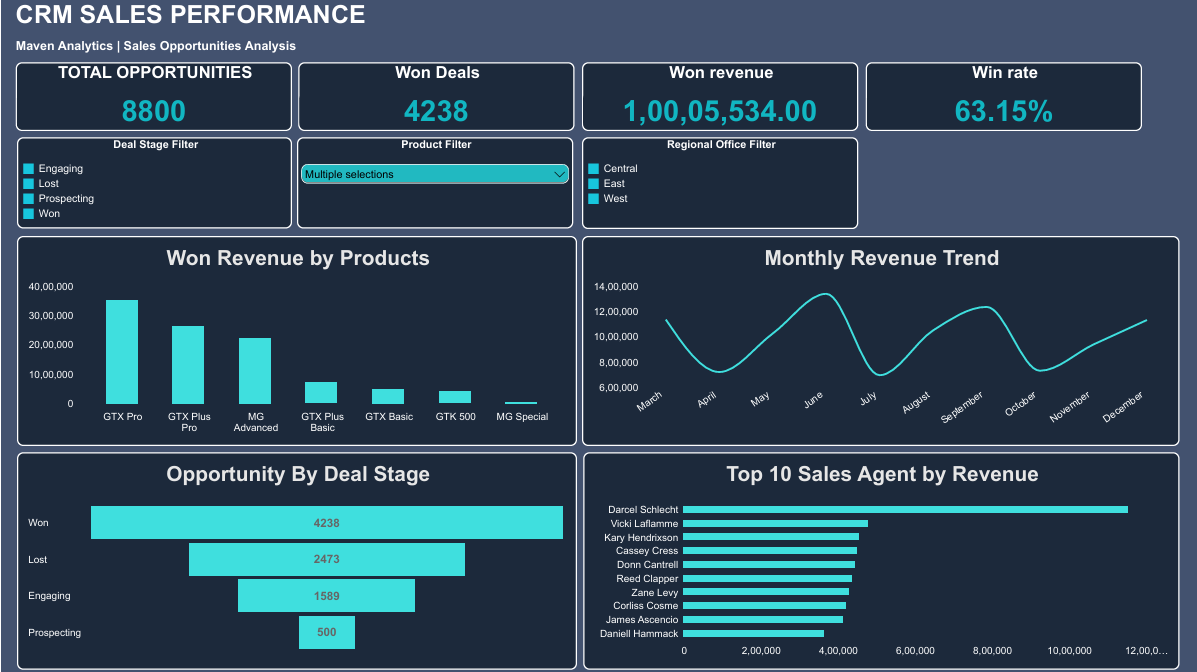

The page's visual inventory and layout, read from the dashboard file:
{"tool":"powerbi","page":{"name":"Page 1","canvas":[1920,1080],"ordinal":0},"visuals":[{"type":"textbox","title":"CRM SALES PERFORMANCE","box":[21.7,0,613.5,59.7],"z":0},{"type":"textbox","box":[21.7,59.7,613.5,38],"z":1000},{"type":"cardVisual","title":"TOTAL OPPORTUNITIES","fields":{"Data":["Count(maven_crm sales_pipeline_clean.opportunity_id)"]},"box":[22,98,442,110],"z":2000},{"type":"cardVisual","title":"Won Deals","fields":{"Data":["maven_crm accounts.Won Deals"]},"box":[474,98,442,110],"z":3000},{"type":"cardVisual","title":"Won revenue","fields":{"Data":["maven_crm accounts.Won revenue"]},"box":[928,98,441.6,110.4],"z":4000},{"type":"cardVisual","title":"Win rate ","fields":{"Data":["maven_crm accounts.Win Rate %"]},"box":[1382,98,442,110],"z":5000},{"type":"clusteredColumnChart","title":"Won Revenue by Products","fields":{"Category":["maven_crm products.product"],"Y":["Sum(maven_crm sales_pipeline_clean.CLOSE_VALUE)"]},"box":[24,376,896,336],"z":6000},{"type":"lineChart","title":"Monthly Revenue Trend","fields":{"Category":["maven_crm sales_pipeline_clean.close_date.Variation.Date Hierarchy.Month"],"Y":["Sum(maven_crm sales_pipeline_clean.CLOSE_VALUE)"]},"box":[928,376,956,336],"z":7000},{"type":"funnel","title":" Opportunity By Deal Stage","fields":{"Category":["maven_crm sales_pipeline_clean.deal_stage"],"Y":["CountNonNull(maven_crm sales_pipeline_clean.opportunity_id)"]},"box":[24,722,896,348],"z":8000},{"type":"clusteredBarChart","title":"Top 10 Sales Agent by Revenue","fields":{"Category":["maven_crm sales_pipeline_clean.Sales_agent"],"Y":["Sum(maven_crm sales_pipeline_clean.CLOSE_VALUE)"]},"box":[930,722,954,348],"z":8001},{"type":"slicer","title":"Deal Stage Filter","fields":{"Values":["maven_crm sales_pipeline_clean.deal_stage"]},"box":[24,218,440,146],"z":8002},{"type":"slicer","title":"Product Filter","fields":{"Values":["maven_crm sales_pipeline_clean.Product"]},"box":[472,218,442,146],"z":8003},{"type":"slicer","title":"Regional Office Filter","fields":{"Values":["maven_crm sales_teams.regional_office"]},"box":[928,218,441.6,146.6],"z":8004}]}

Visuals, with their boxes in screenshot pixels (x1, y1, x2, y2), scaled from the page's 1920x1080 canvas onto the 1197x672 screenshot:
"CRM SALES PERFORMANCE" textbox: 14 0 396 37
textbox: 14 37 396 61
"TOTAL OPPORTUNITIES" cardVisual: 14 61 289 129
"Won Deals" cardVisual: 296 61 571 129
"Won revenue" cardVisual: 579 61 854 130
"Win rate " cardVisual: 862 61 1137 129
"Won Revenue by Products" clusteredColumnChart: 15 234 574 443
"Monthly Revenue Trend" lineChart: 579 234 1175 443
" Opportunity By Deal Stage" funnel: 15 449 574 666
"Top 10 Sales Agent by Revenue" clusteredBarChart: 580 449 1175 666
"Deal Stage Filter" slicer: 15 136 289 226
"Product Filter" slicer: 294 136 570 226
"Regional Office Filter" slicer: 579 136 854 227
